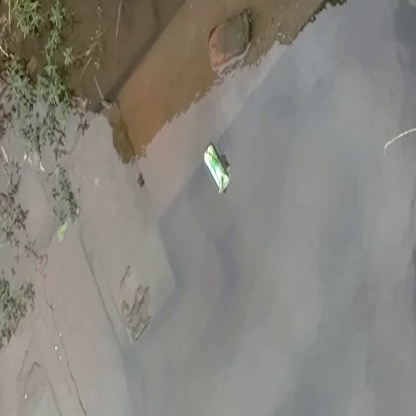milk-box: (196, 137, 238, 197)
